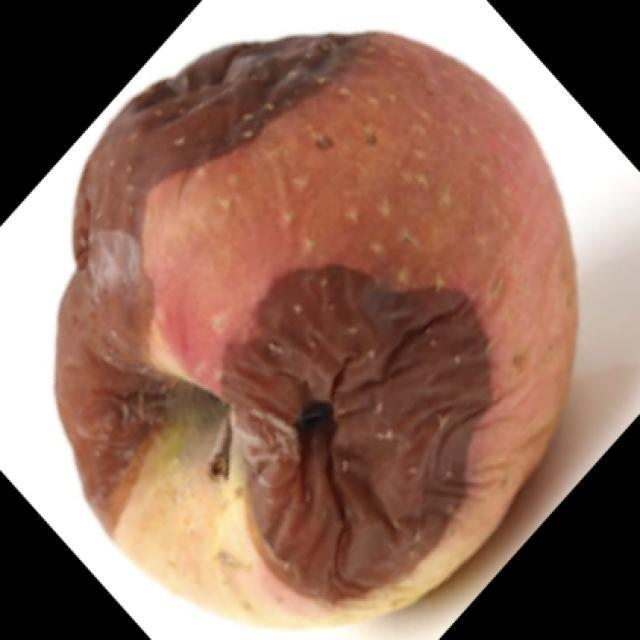Rotten: (99, 31, 598, 640)
